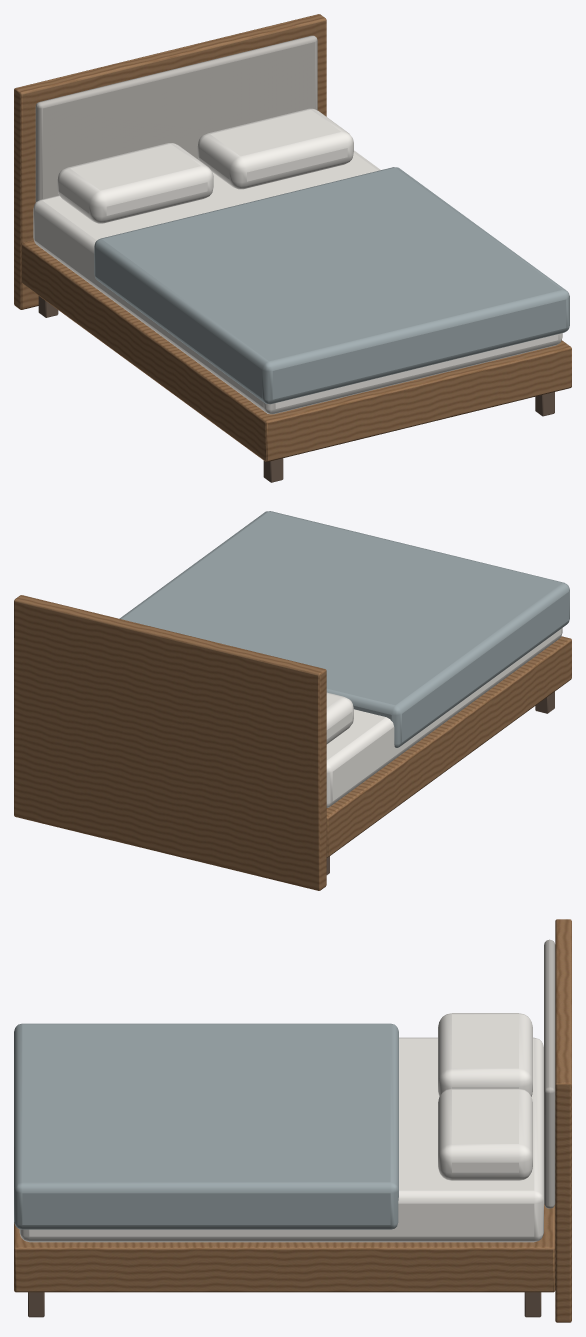
File: bed-double-140.glb
The picture shows the model from 3 angles, top to bottom: view 1: azimuth 30°, elevation 25°; view 2: azimuth 150°, elevation 25°; view 3: azimuth 270°, elevation 25°; orthographic projection. The views are drawn at different scales.
Visible parts, largest first — view 1: bed-double-140; view 2: bed-double-140; view 3: bed-double-140.
Boxes of the visible parts, bbox=[...] form: bed-double-140: bbox=[14, 14, 571, 482]; bed-double-140: bbox=[14, 511, 571, 890]; bed-double-140: bbox=[14, 919, 571, 1322].
Bounding box in the file's own units: 1.4 × 0.95 × 2.
Materials: 5 (1 with a texture image).
